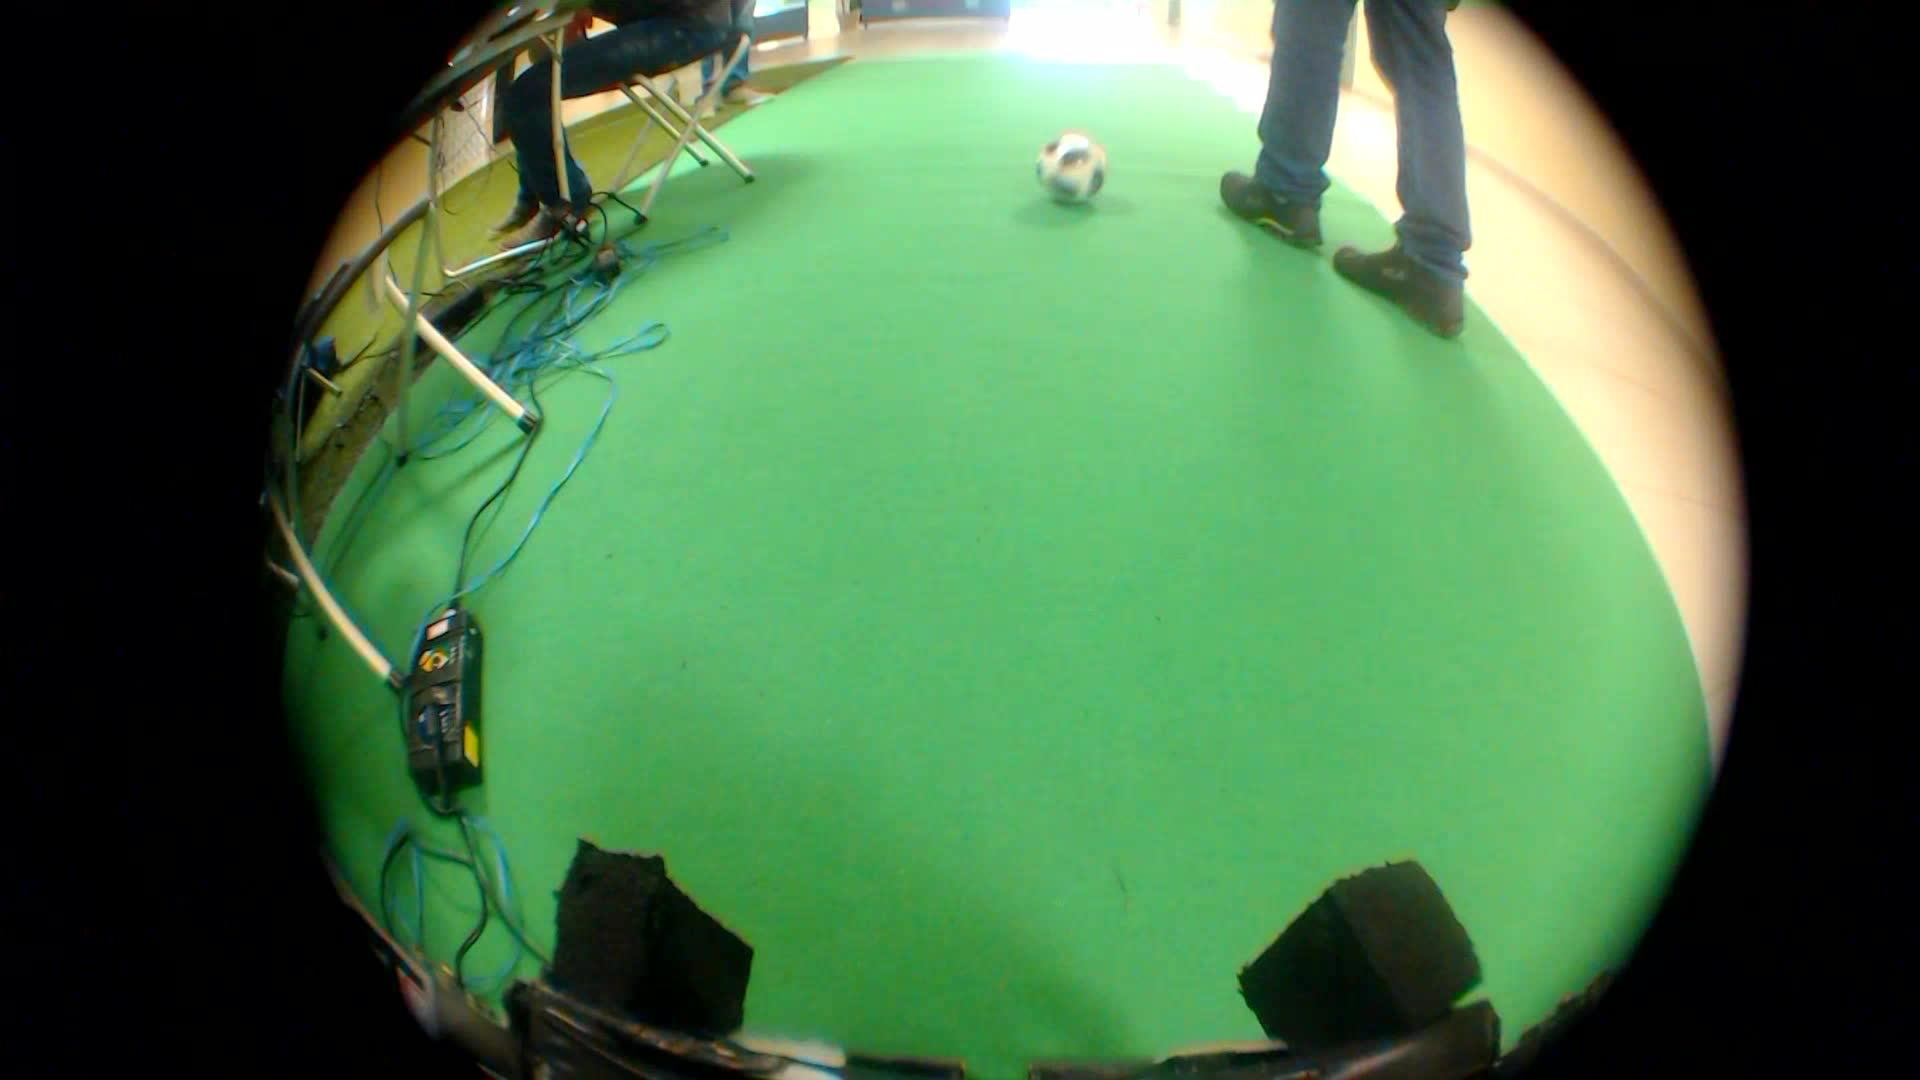ball: (1029, 116, 1124, 208)
